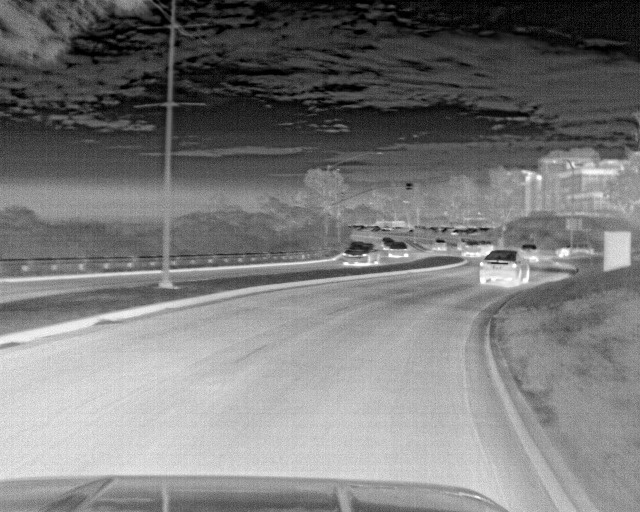vehicle: (477, 250, 529, 288), (338, 245, 381, 266), (389, 242, 407, 261)
